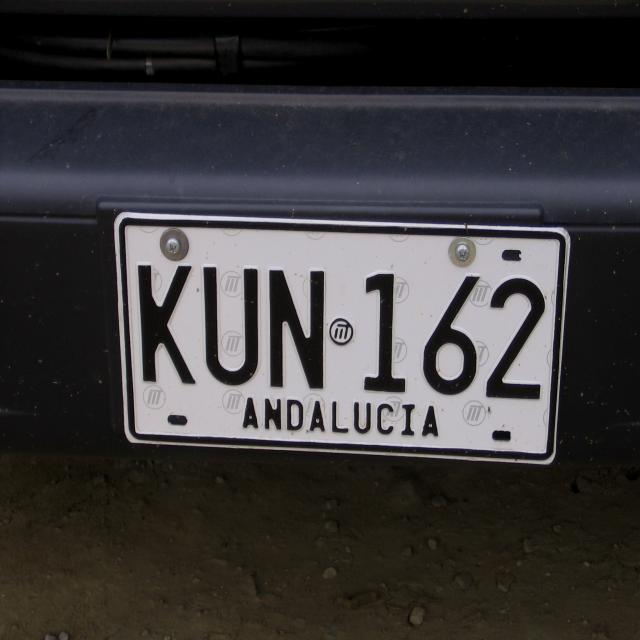placa: (110, 197, 572, 469)
